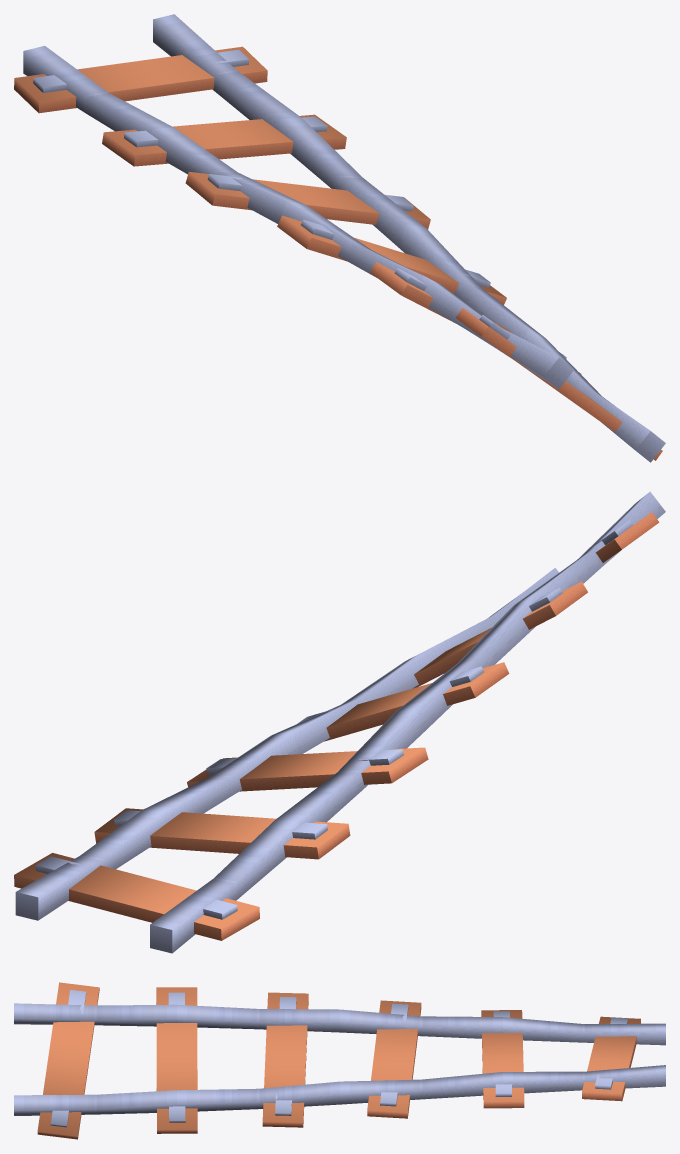
Rendered from railroad-damaged-straight-skew-left.glb.
The picture shows the model from 3 angles, top to bottom: view 1: azimuth 30°, elevation 25°; view 2: azimuth 150°, elevation 25°; view 3: azimuth 270°, elevation 25°; orthographic projection. The views are drawn at different scales.
Parts seen in each view (by area): view 1: railroad-damaged-straight-skew-left; view 2: railroad-damaged-straight-skew-left; view 3: railroad-damaged-straight-skew-left.
Part boxes in pixels (x1,y1,x2,y2): railroad-damaged-straight-skew-left: (14,14,665,462); railroad-damaged-straight-skew-left: (14,491,665,953); railroad-damaged-straight-skew-left: (14,982,665,1139).
Bounding box in the file's own units: 1.02 × 0.7266 × 4.
Materials: 1 (1 with a texture image).
